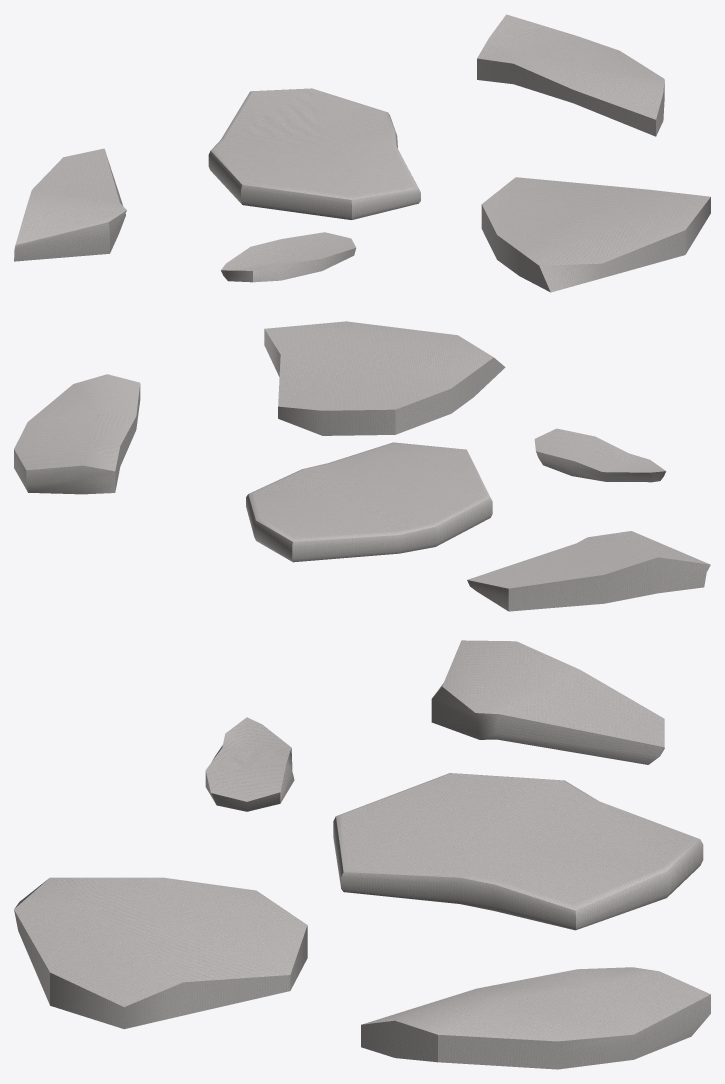
File: White cast debris.fbx
3 renders of one model, top to bottom at view 1: azimuth 30°, elevation 25°; view 2: azimuth 150°, elevation 25°; view 3: azimuth 270°, elevation 25°, orthographic. The views are drawn at different scales.
Parts seen in each view (by area): view 1: White_cast_debris; view 2: White_cast_debris; view 3: White_cast_debris.
Part boxes in pixels (x1,y1,x2,y2): White_cast_debris: (14,14,710,292); White_cast_debris: (14,321,710,611); White_cast_debris: (14,640,710,1069).
Size of the model in its own units: 4.38 by 0.2758 by 3.1.
Materials: 1 (1 with a texture image).
